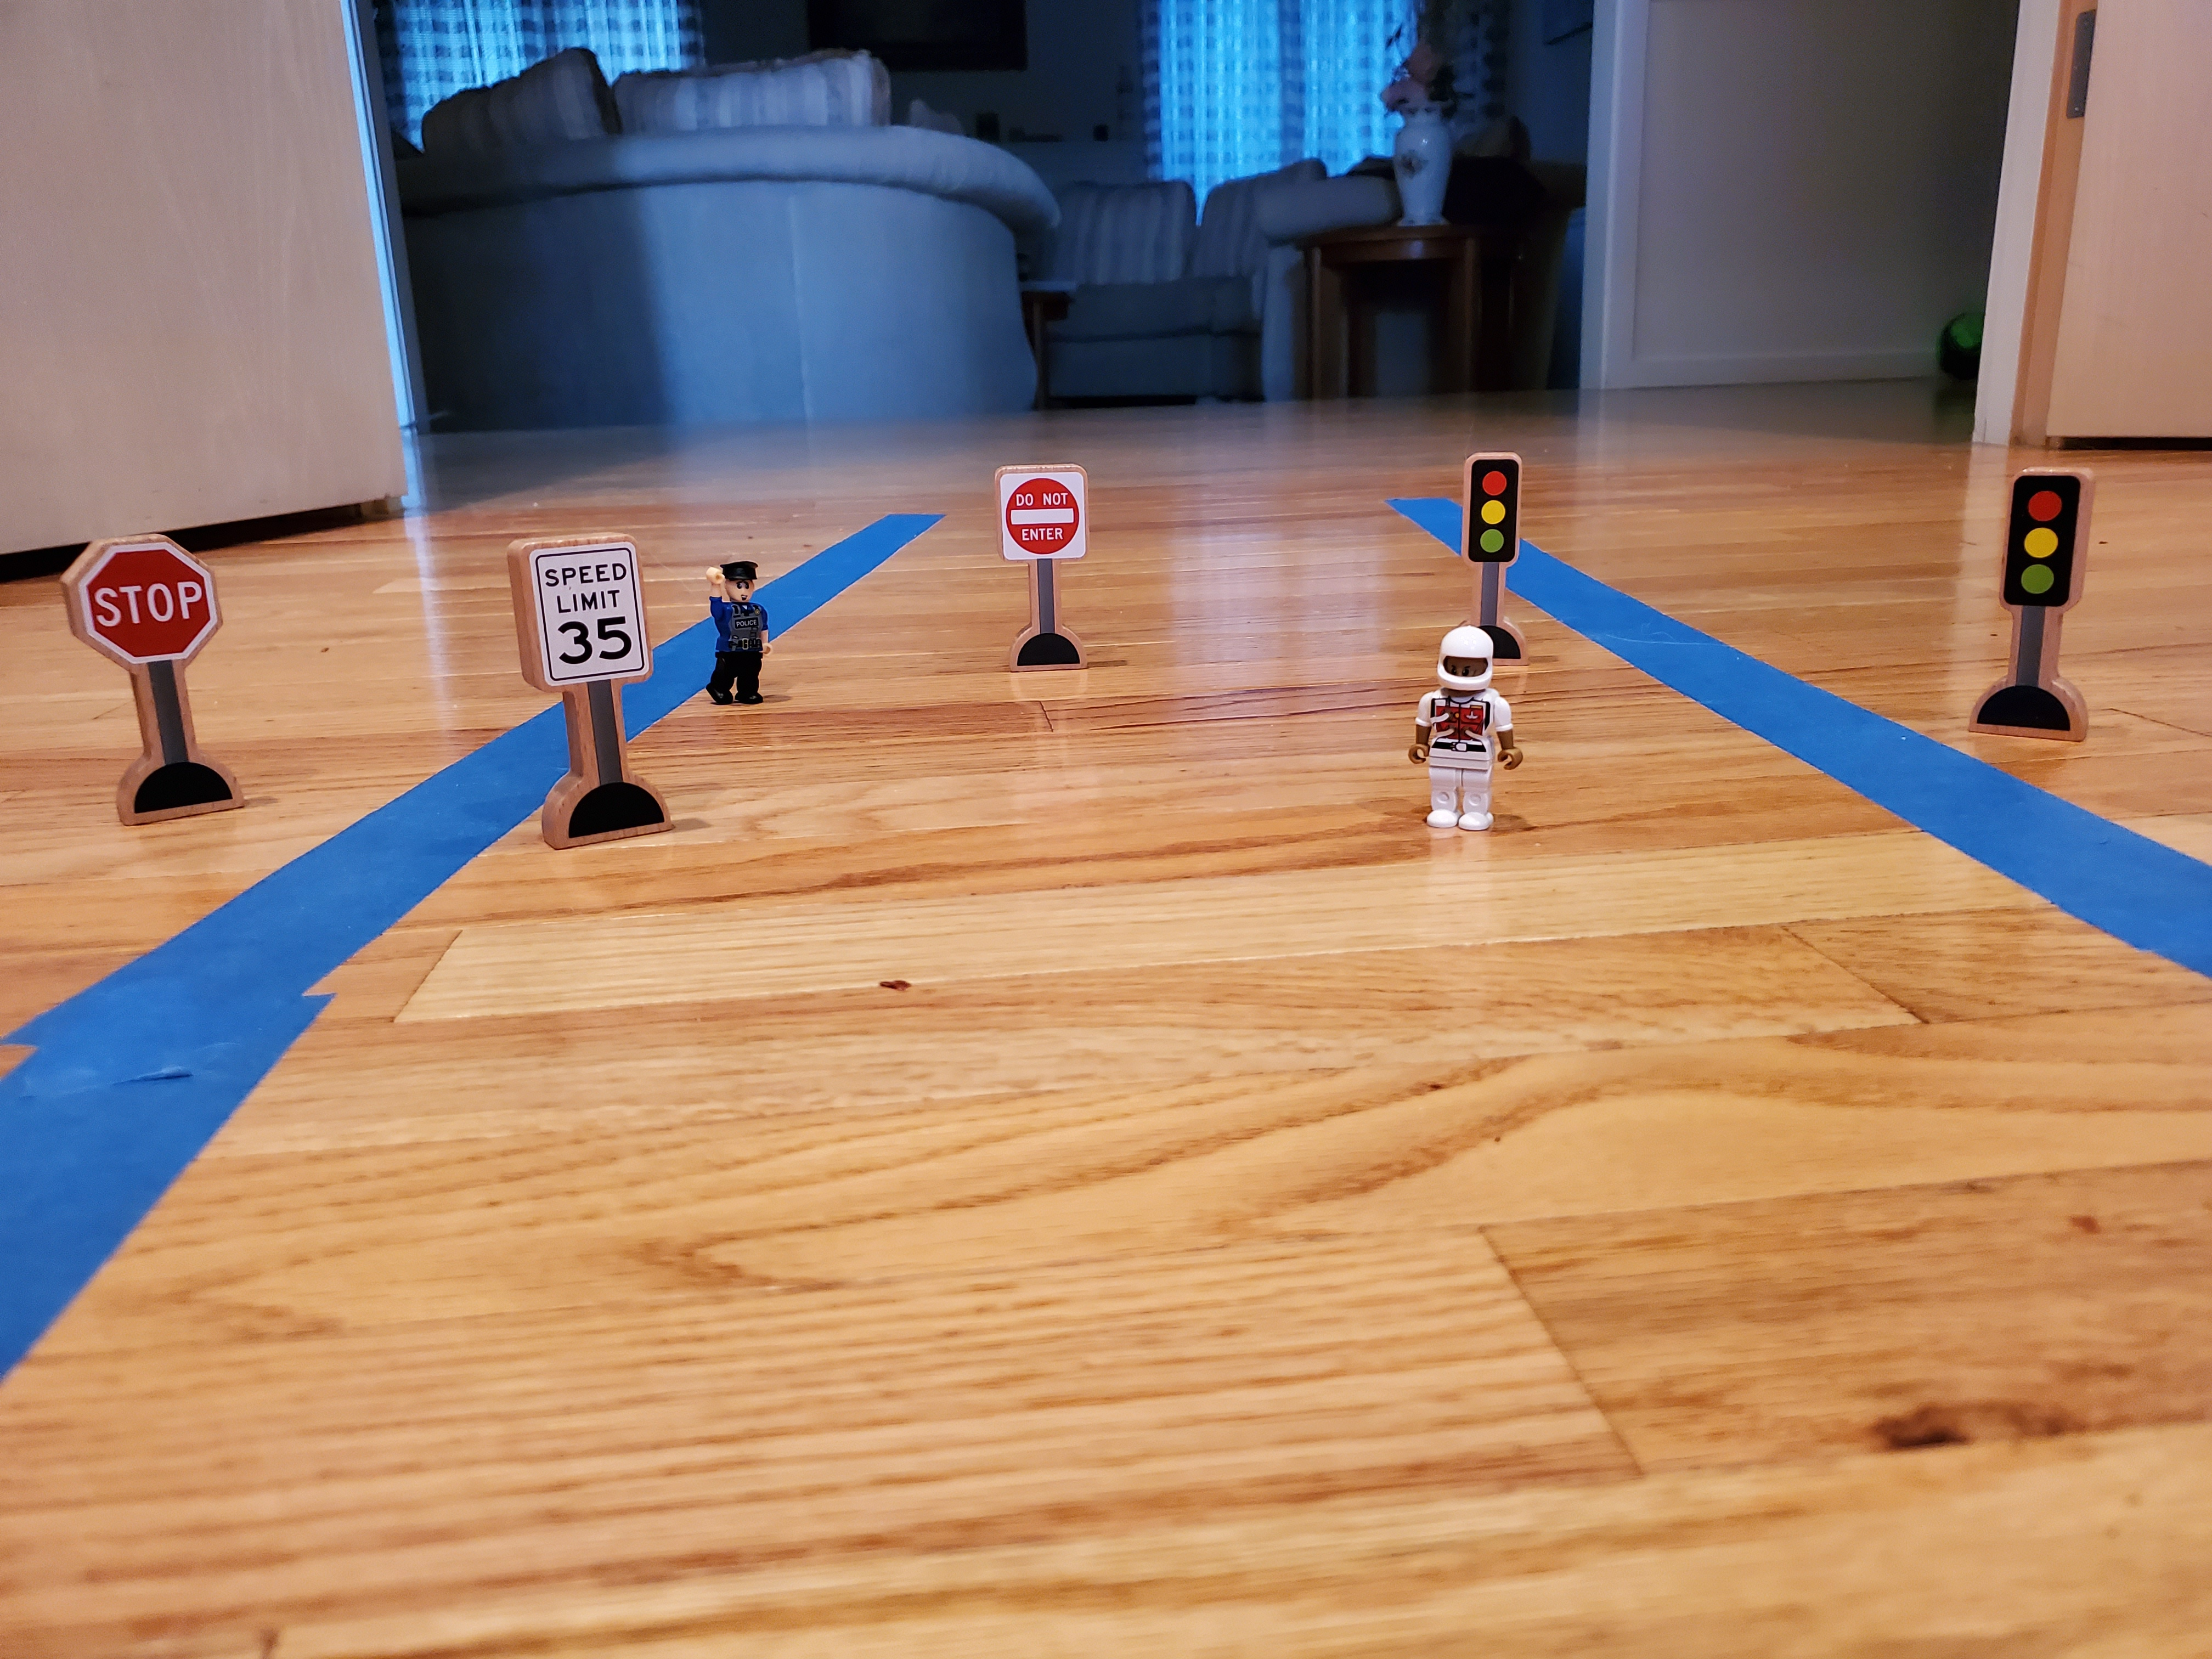Do Not Enter: (986, 458, 1092, 579)
Red Traffic Light: (1991, 459, 2104, 625), (1454, 444, 1524, 576)
Speed Limit 35: (500, 537, 657, 693)
Stop Sign: (41, 520, 236, 686)
person: (1399, 619, 1531, 844), (693, 555, 778, 710)
